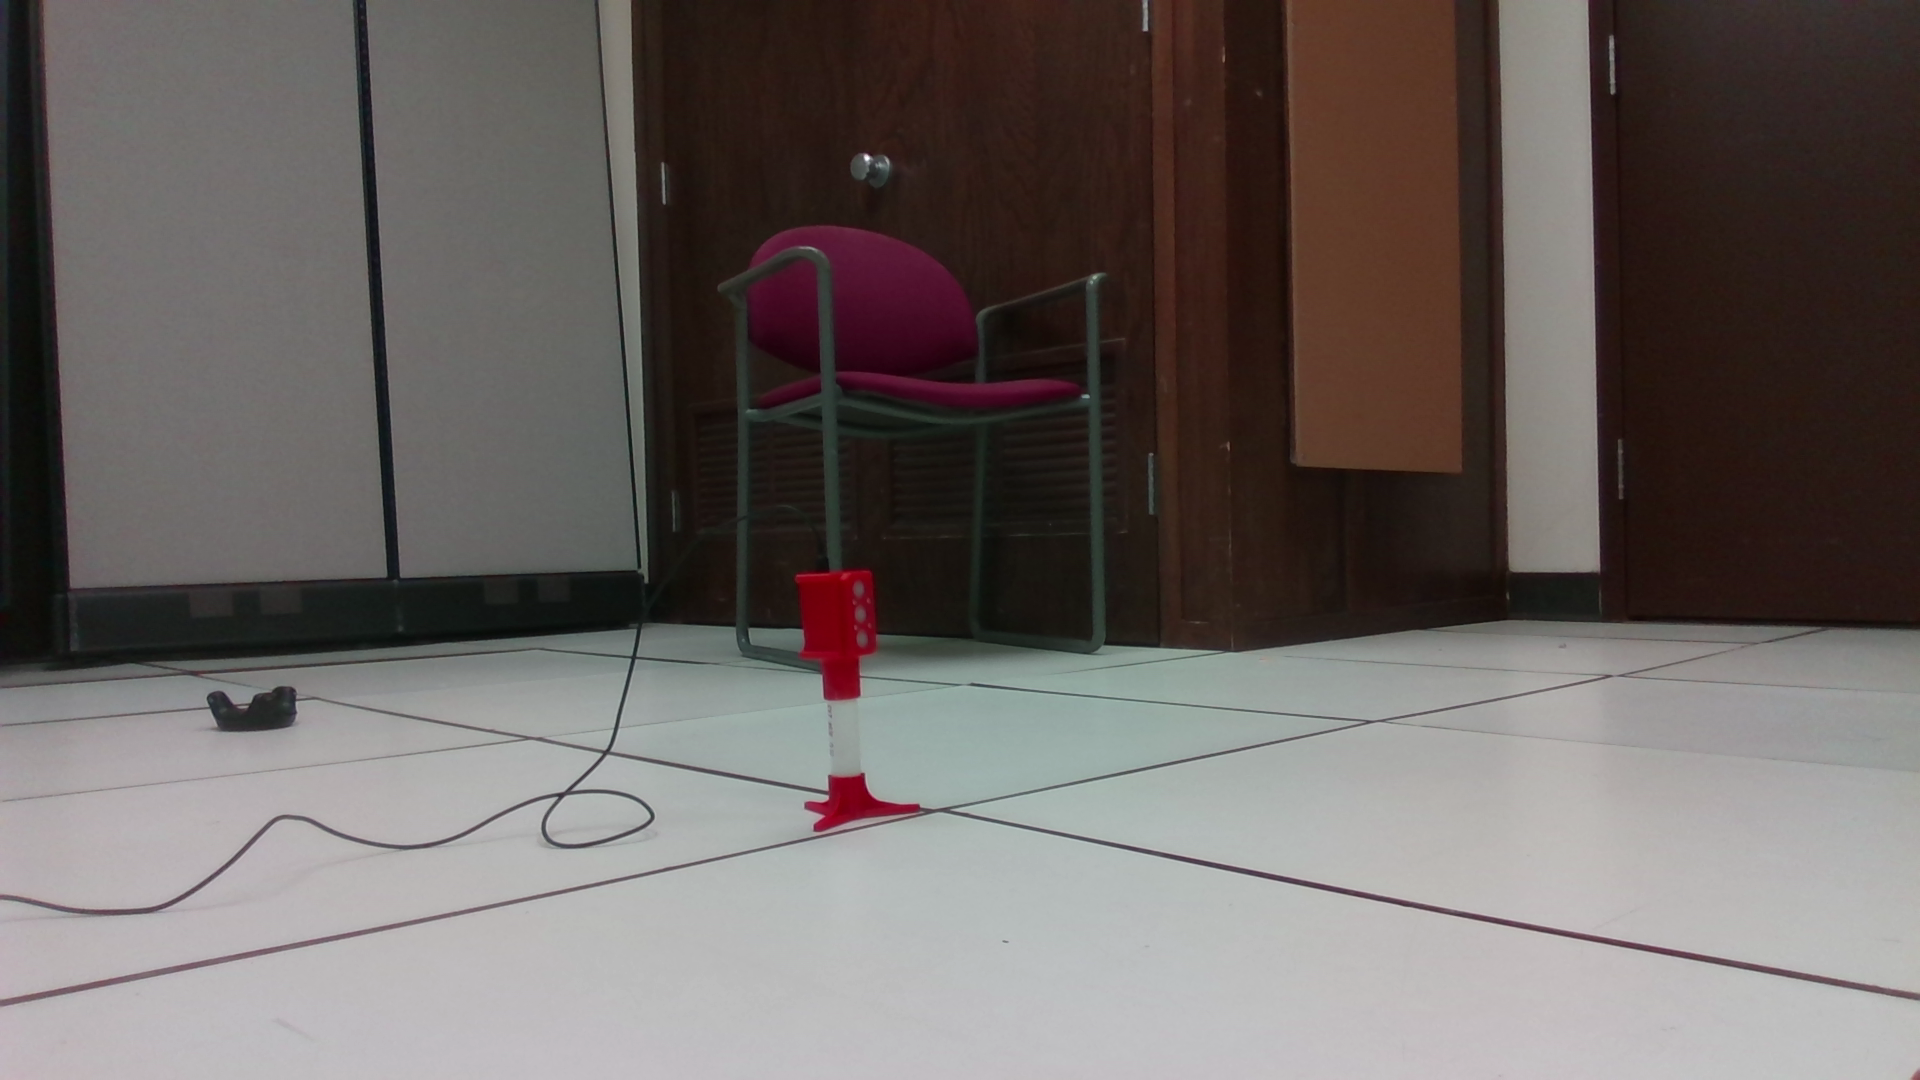stoplight: (796, 571, 882, 704)
